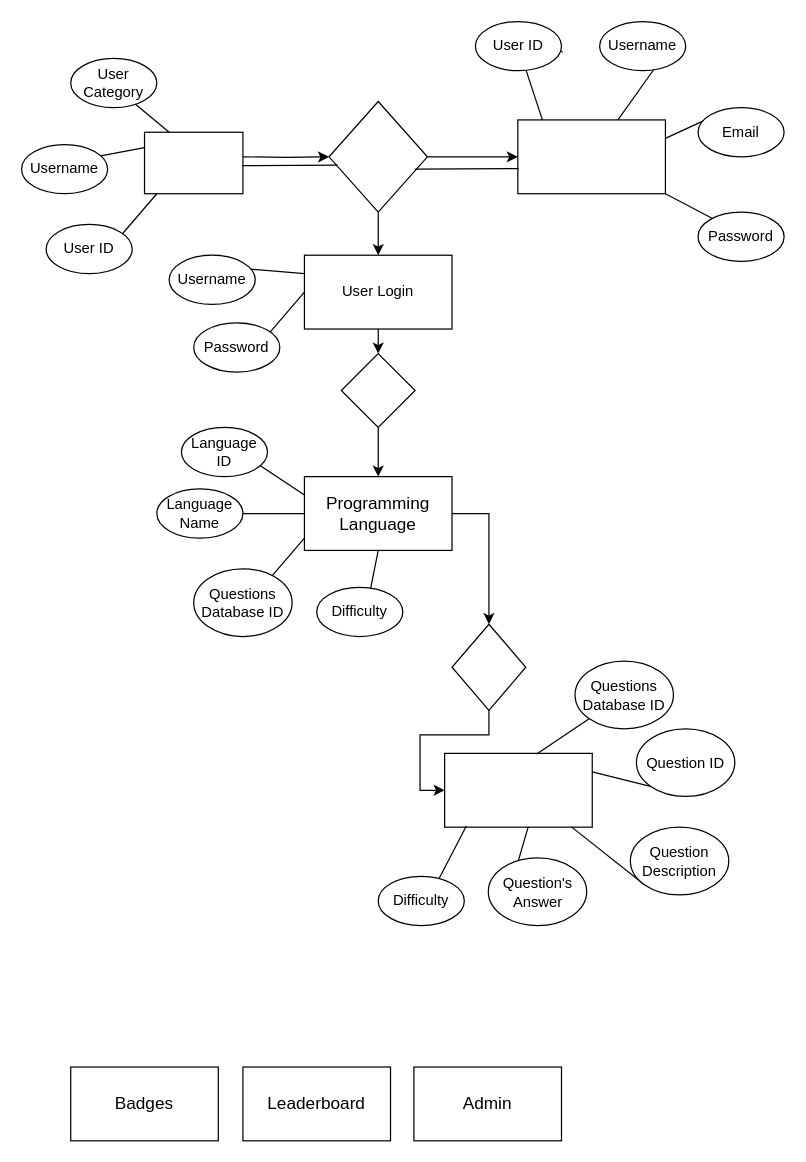
Some shapes in this 806 by 1162 pixel diagram are drawn without their labels. Here are the shapes that lost their labels. From the top down, the centre of each, then its label:
At (x=193, y=162): "User".
At (x=377, y=156): "Check if New or not".
At (x=591, y=156): "Register / Sign-Up".
At (x=377, y=389): "Chooses".
At (x=488, y=666): "answers".
At (x=517, y=789): "Questoins".
